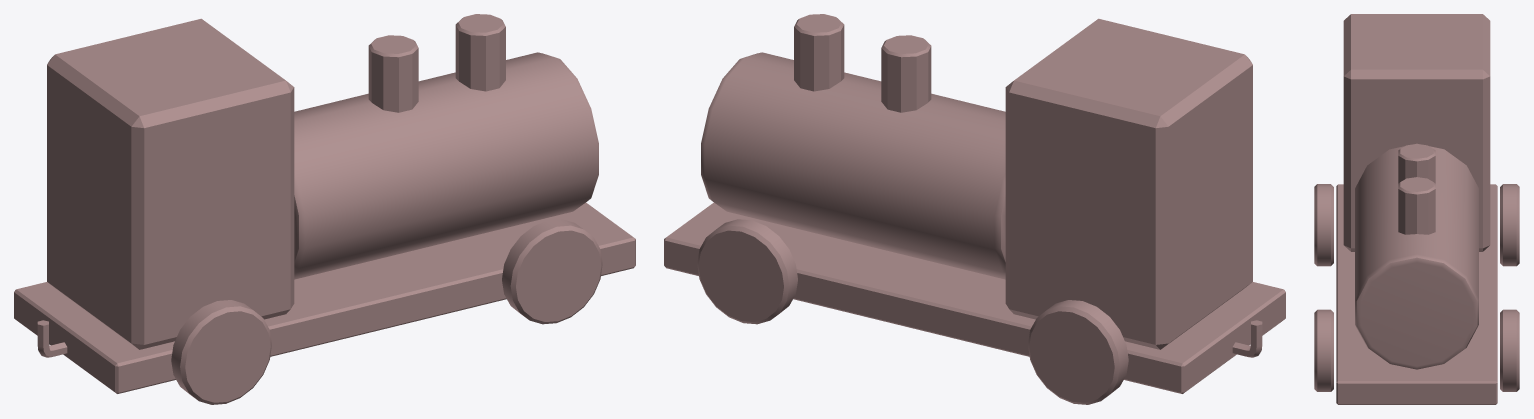
File: Train.fbx
3 renders of one model, left to right at view 1: azimuth 30°, elevation 25°; view 2: azimuth 150°, elevation 25°; view 3: azimuth 270°, elevation 25°, orthographic. The views are drawn at different scales.
Visible parts, largest first — view 1: Train; view 2: Train; view 3: Train.
Part boxes in pixels (x1,y1,x2,y2): Train: (14,14,635,404); Train: (664,14,1285,404); Train: (1314,14,1519,404).
Size of the model in its own units: 0.0661 by 0.0332 by 0.0275.
